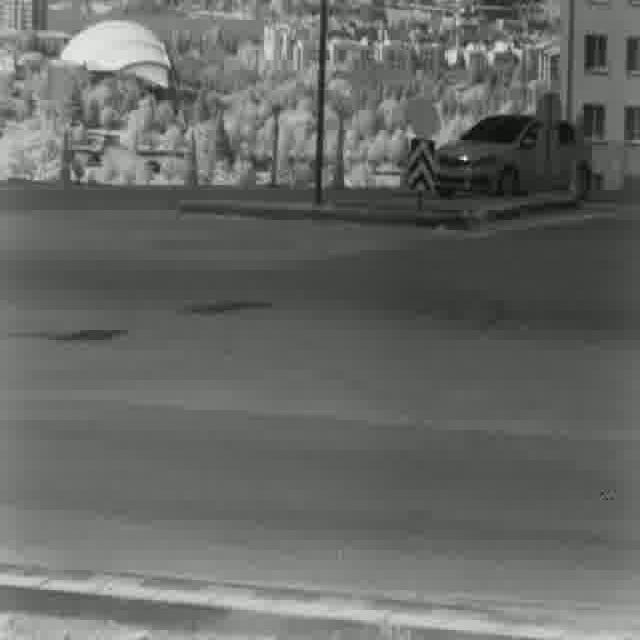Car: (436, 114, 590, 202)
